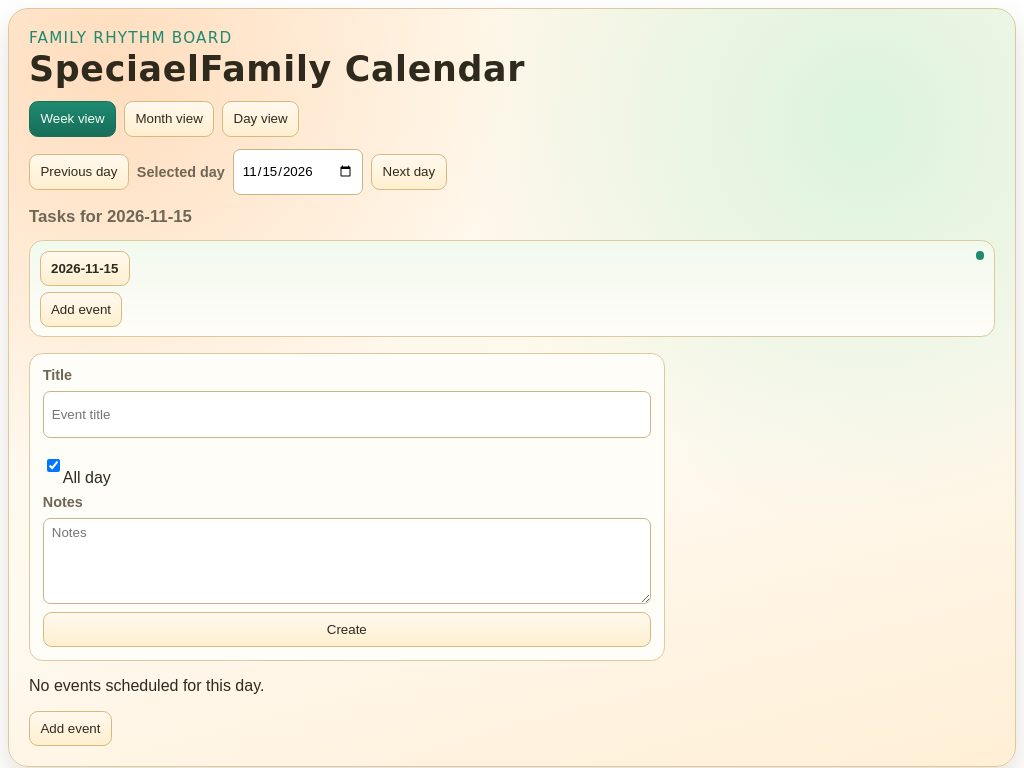
Test: calendar view switching › switches week -> day and renders selected day context
This screenshot has width=1024, height=768.
Expected: the element named "week-view" is shown, 29,240 -> 995,337
Click the button named "select-day-" at (85, 268), box 40,251 -> 130,286
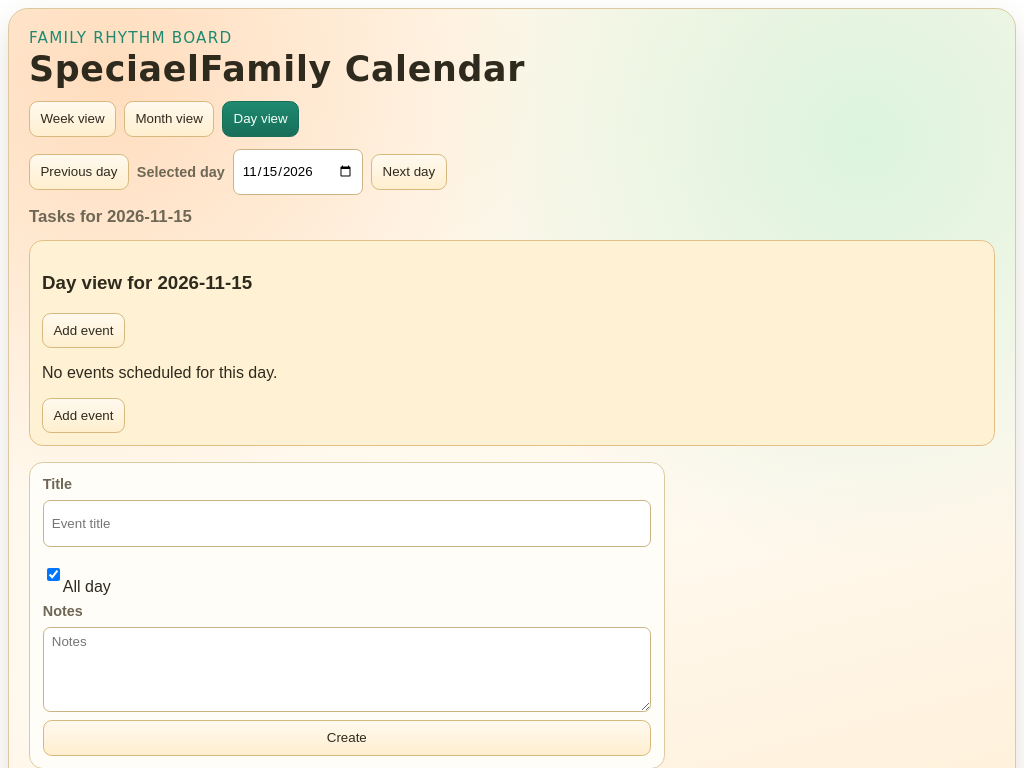
Expected: the element named "day-view" is shown, 29,240 -> 995,446
